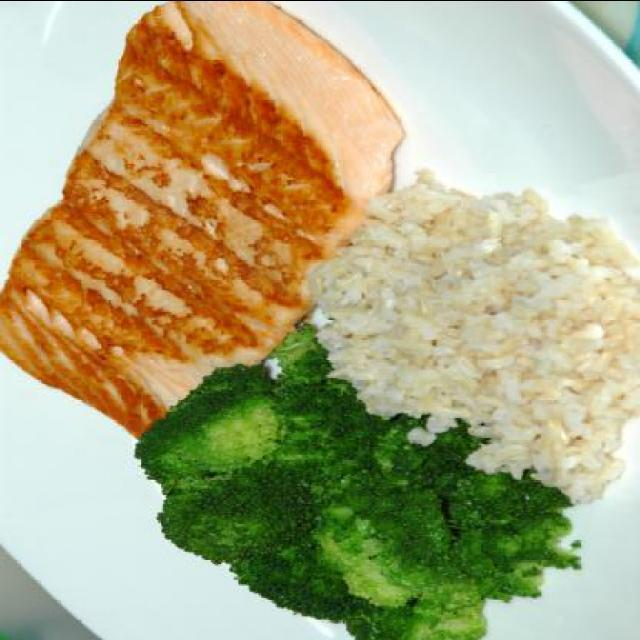Broccoli: (130, 325, 576, 640)
